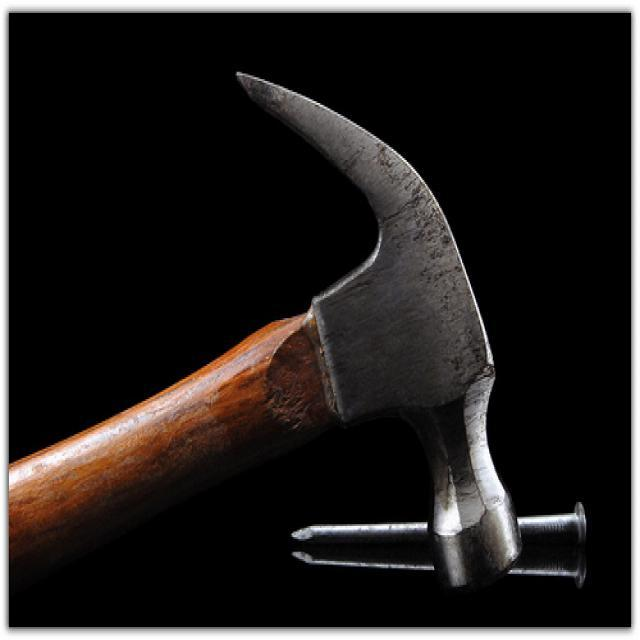hammer: (28, 62, 529, 600)
